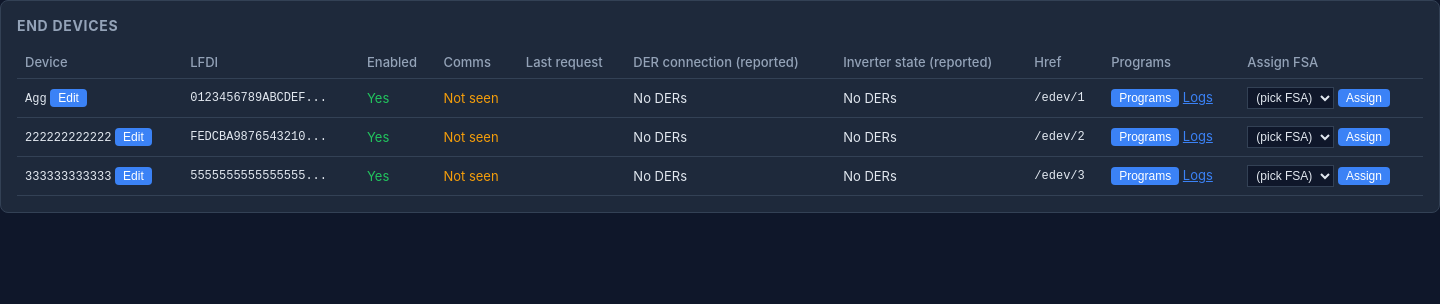
it: Devices tab Edit: picker lifetime › renames an aggregator when the pair list cannot be read
This screenshot has width=1440, height=304.
Click the button "Edit" next to "Agg" at [69, 98], box [50,89,87,107]
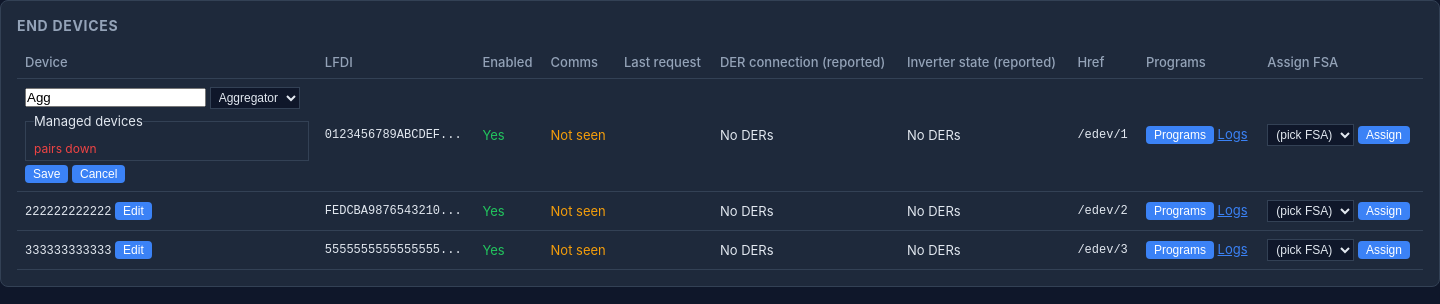
Replace the text in the field with test id "device-name-input" with "Roof" at [116, 98], box [25,88,206,107]
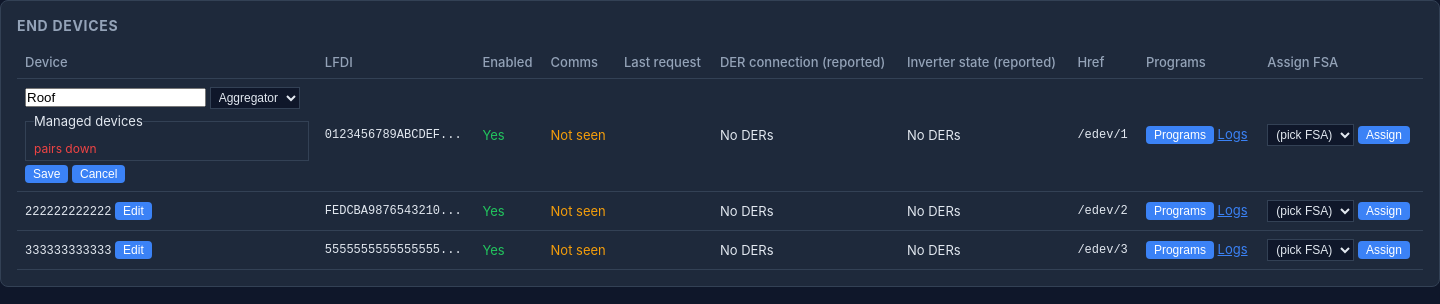
expect the button with test id "device-name-save" is enabled: met
Click the button with test id "device-name-save" at [47, 174], box [25,165,68,183]
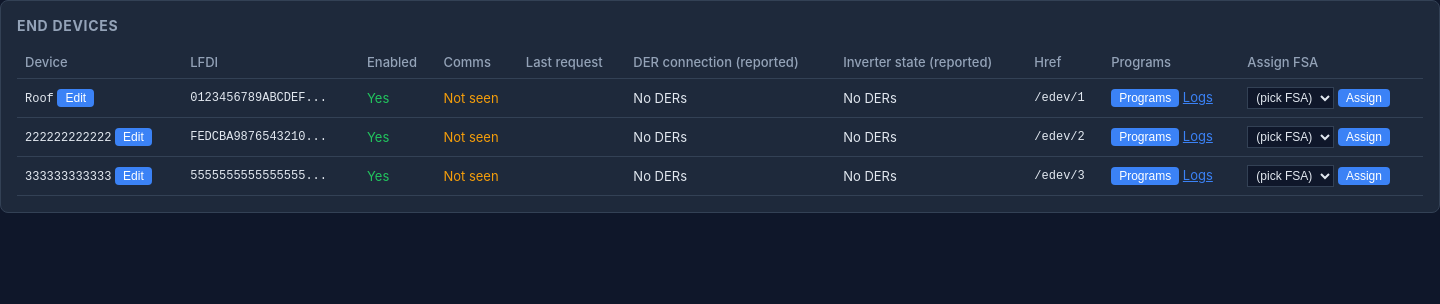
expect the field with test id "device-name-input" is gone: met
